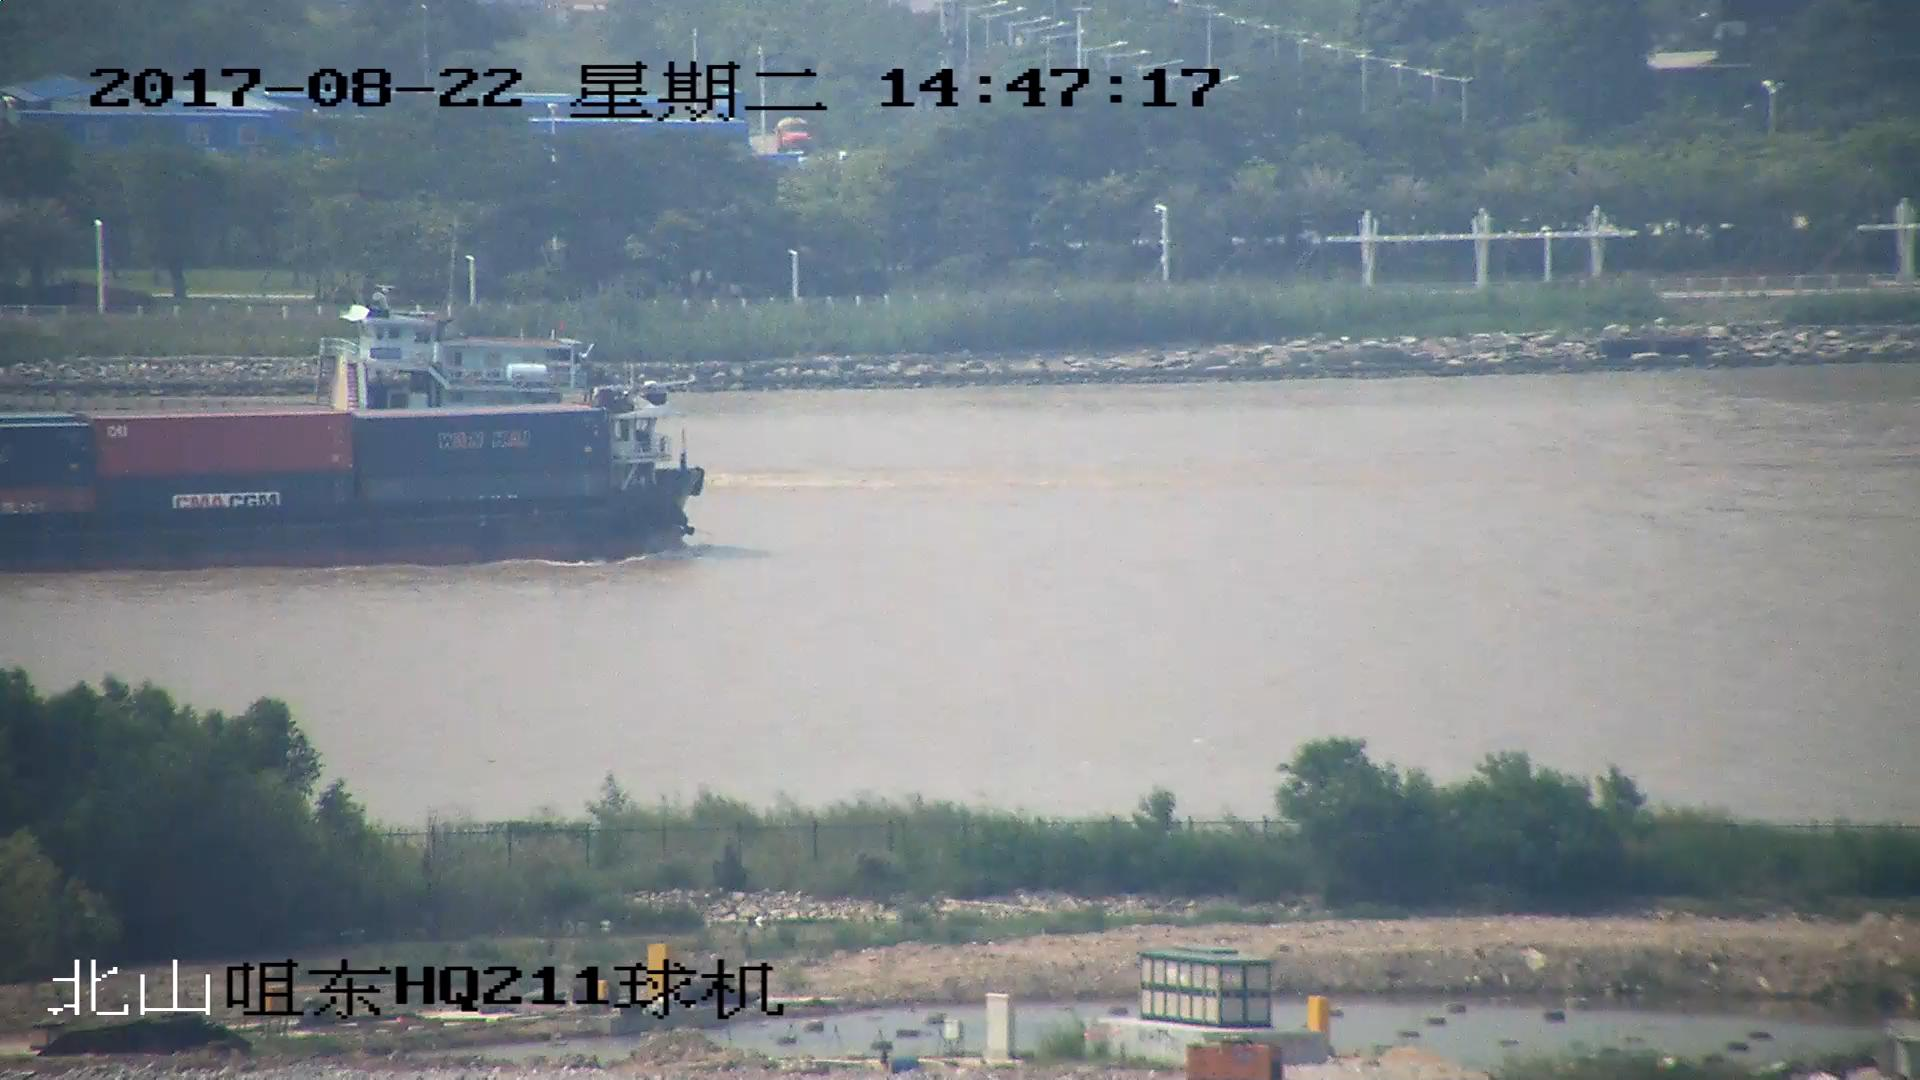bulk cargo carrier: (1, 292, 604, 407)
container ship: (1, 382, 702, 565)
